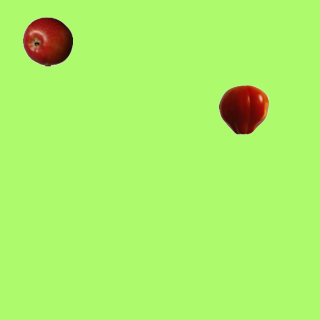Apple Braeburn: (22, 16, 72, 66)
Tomato 1: (218, 84, 268, 134)
